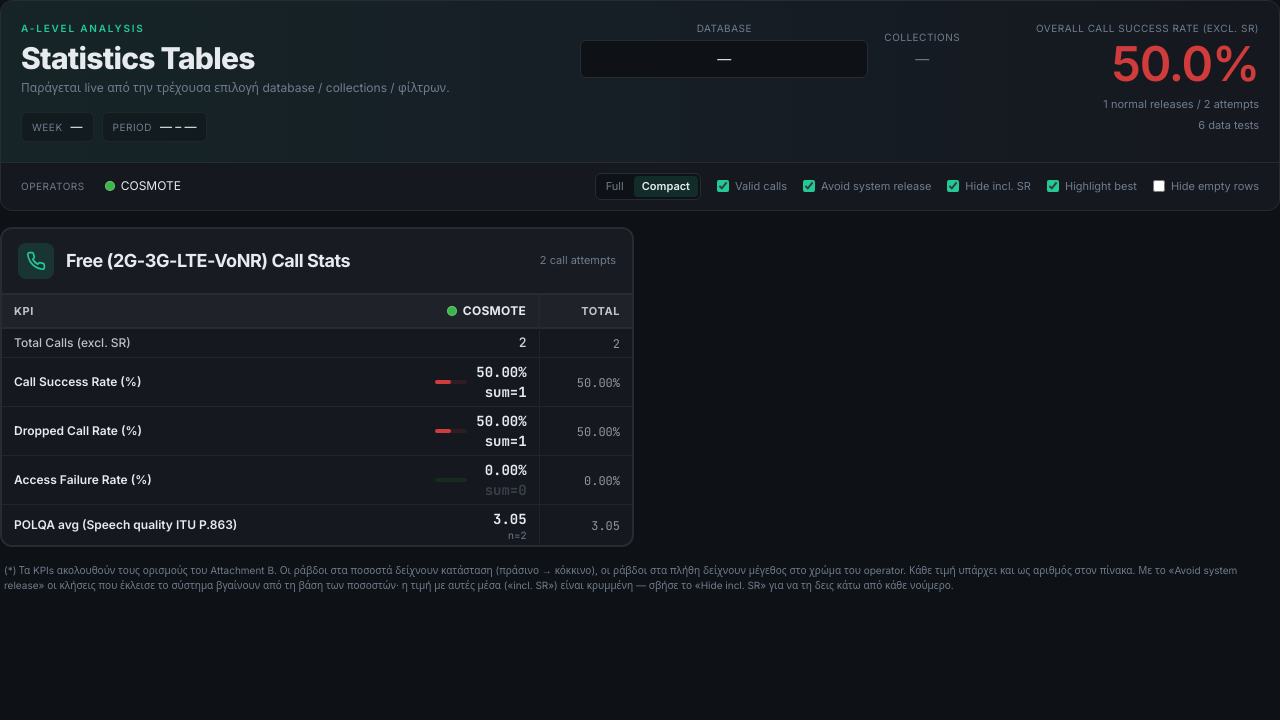
SummaryTab › compact mode › drops HTTP Transfer DL/UL, DNS Resolution, Interactivity (eGaming) and all of Ε5 in compact — Full mode still shows them
Expected: the text "YouTube Service" is not shown
Expected: the text "Kepler +30s Pause" is not shown
Click the button "Full" at (615, 186), box left=598, top=176, right=632, bottom=196
(page scrolled)
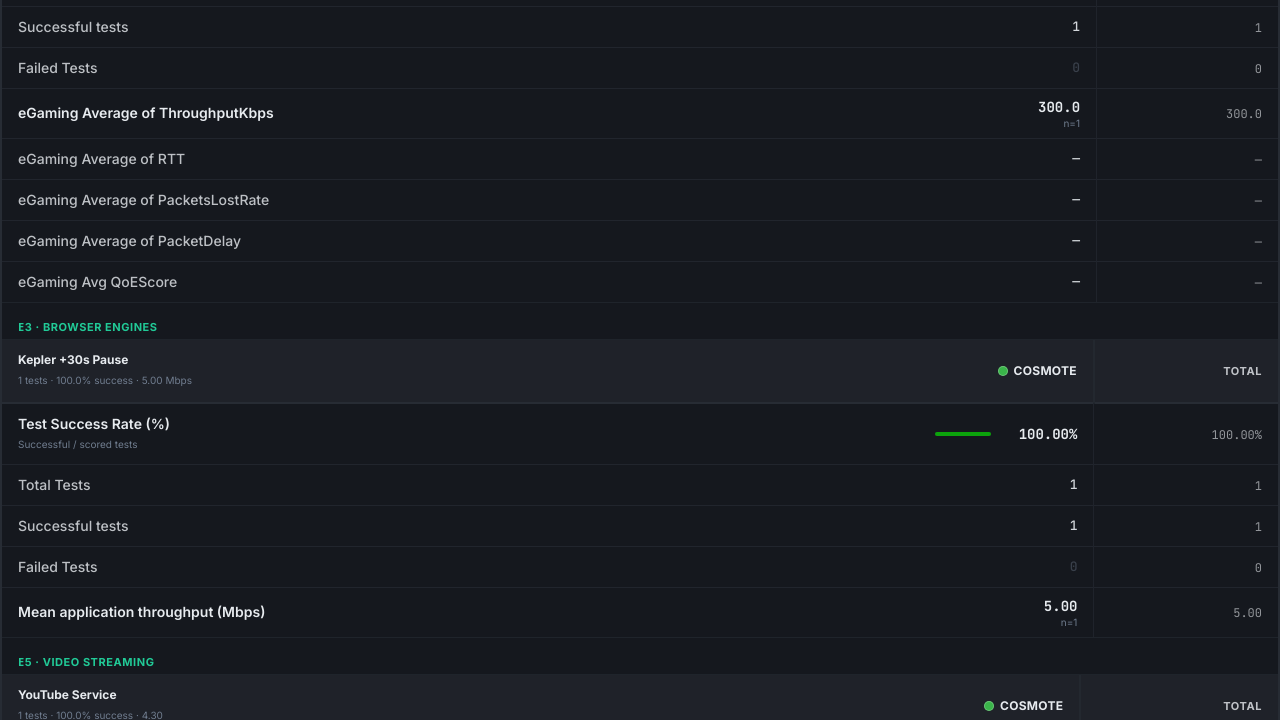
Now the text "YouTube Service" is shown, box left=18, top=687, right=117, bottom=702
Now the text "Kepler +30s Pause" is shown, box left=18, top=352, right=128, bottom=367
